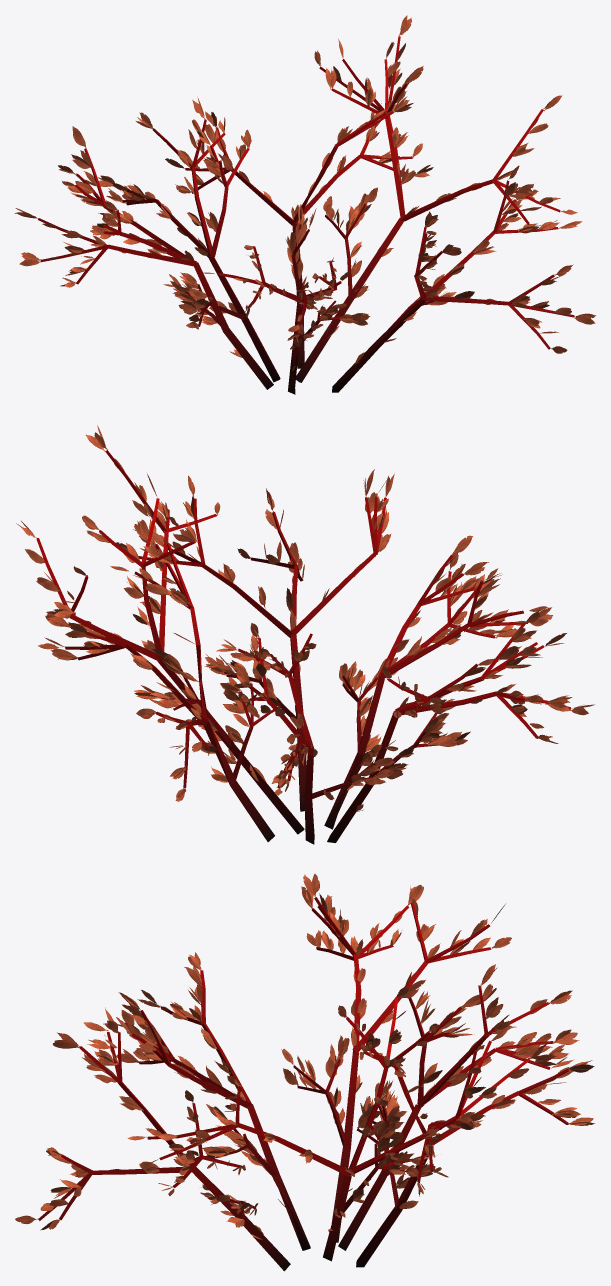
Rendered from sumac_scrub_v02_LOD1.fbx.
3 views of the same model, one above another, from view 1: azimuth 30°, elevation 25°; view 2: azimuth 150°, elevation 25°; view 3: azimuth 270°, elevation 25° (orthographic). The views are drawn at different scales.
Visible parts, largest first — view 1: sumac_scrub_v02_LOD1; view 2: sumac_scrub_v02_LOD1; view 3: sumac_scrub_v02_LOD1.
Part boxes in pixels (x1,y1,x2,y2): sumac_scrub_v02_LOD1: (14,15,595,394); sumac_scrub_v02_LOD1: (16,425,594,844); sumac_scrub_v02_LOD1: (15,874,595,1271).
Bounding box in the file's own units: 396 × 226 × 363.
